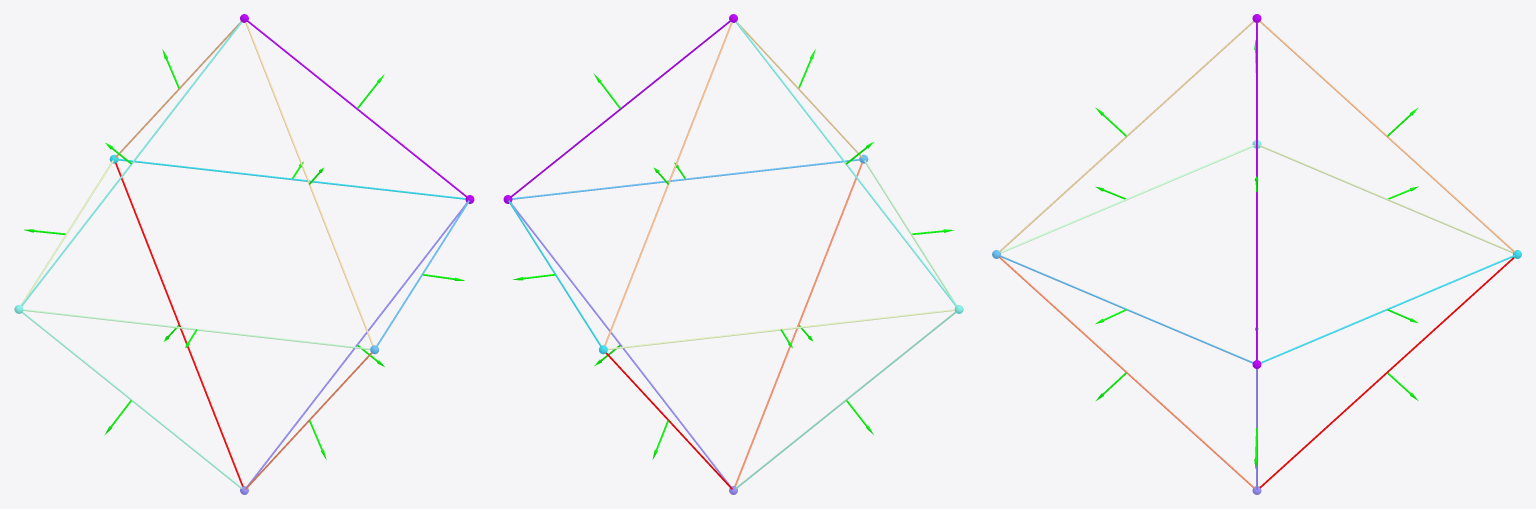
File: octahedron.gltf
3 views of the same model, side by side, from view 1: azimuth 30°, elevation 25°; view 2: azimuth 150°, elevation 25°; view 3: azimuth 270°, elevation 25° (orthographic).
Size of the model in its own units: 1.17 by 1.17 by 1.17.
